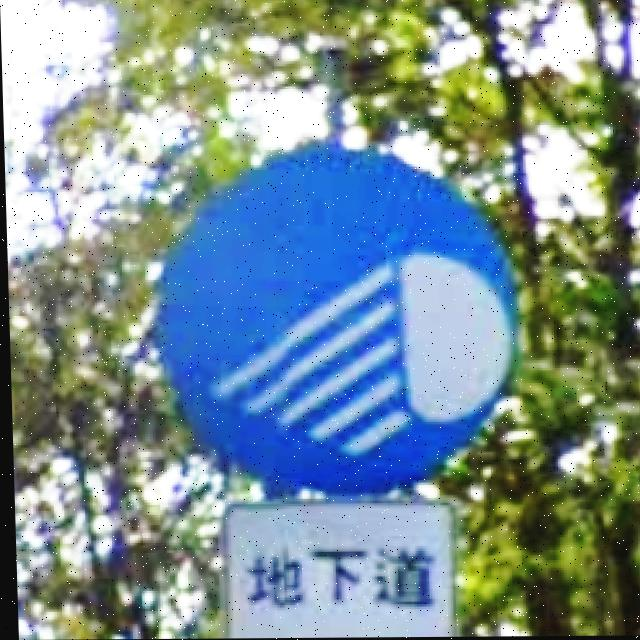lightson: (159, 146, 513, 493)
